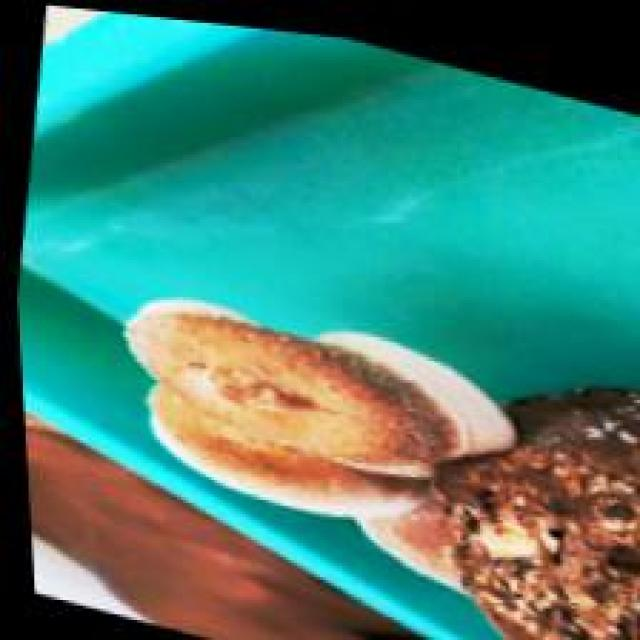chanterelle: (123, 294, 637, 637)
